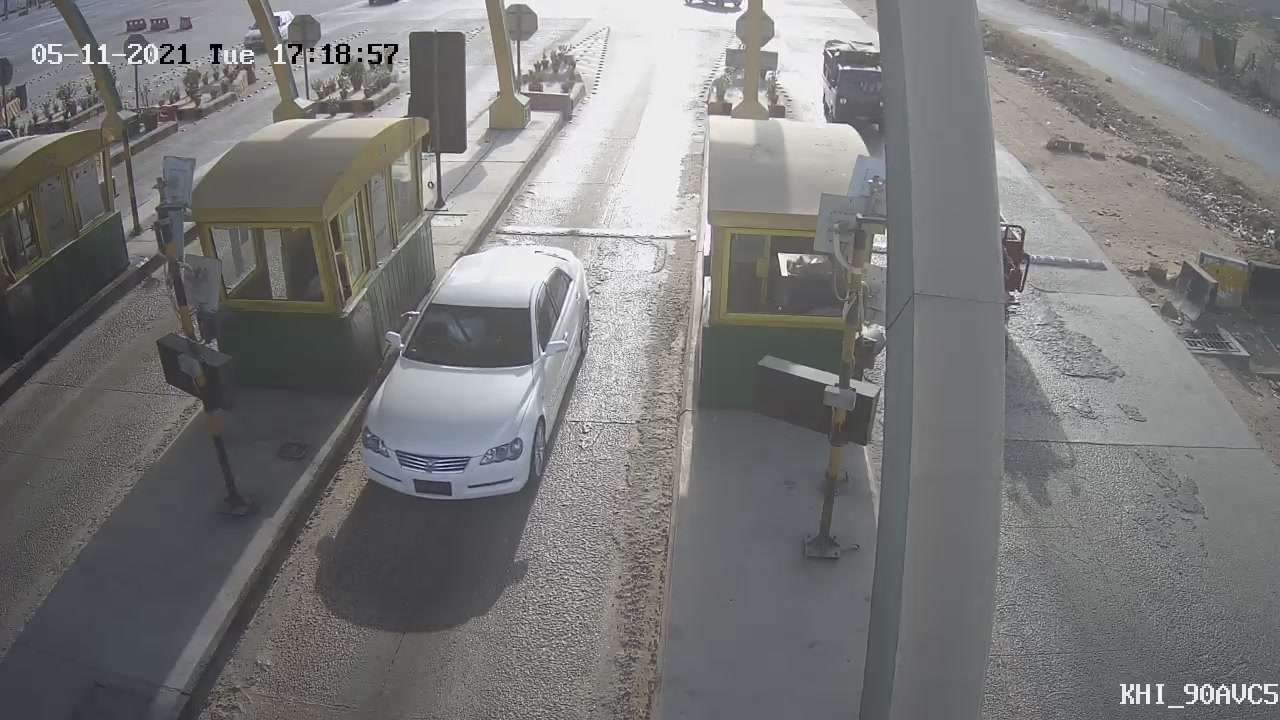F1: (321, 221, 603, 517)
